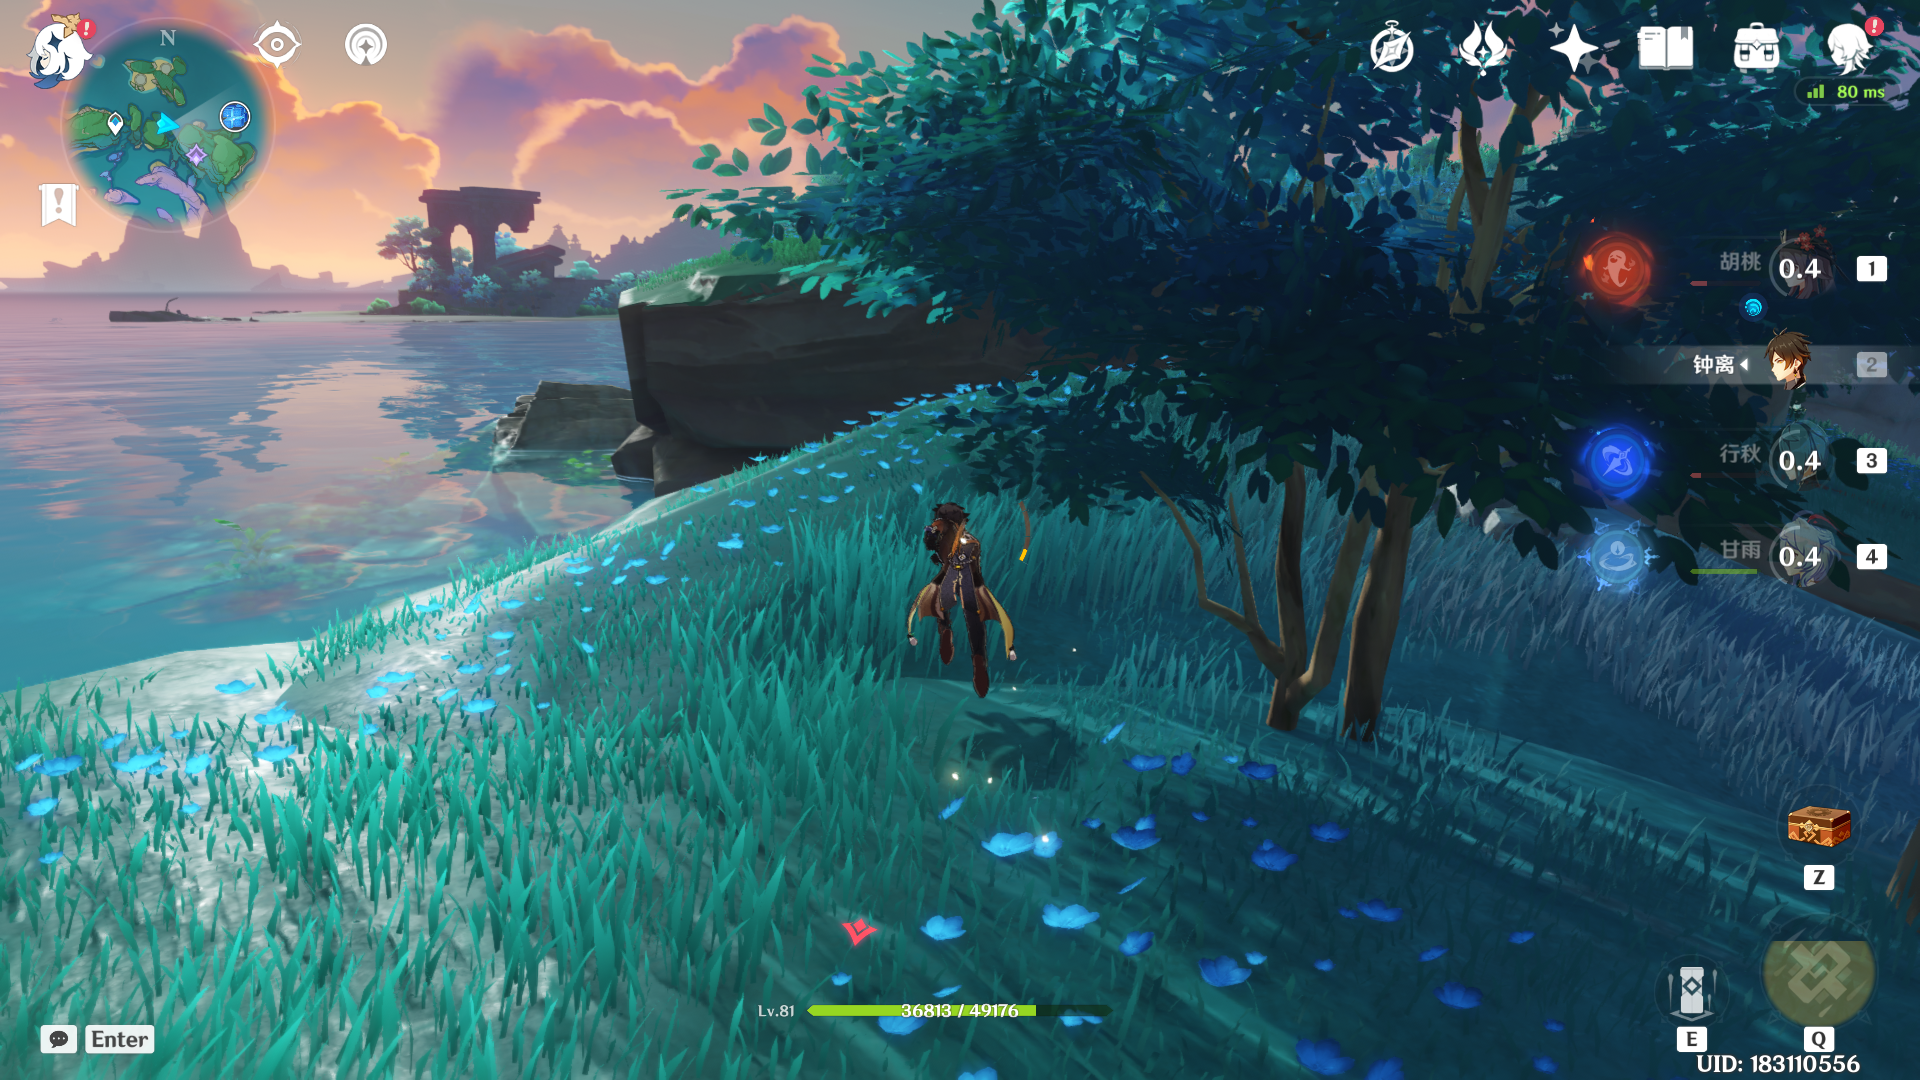character: (886, 462, 1048, 713)
